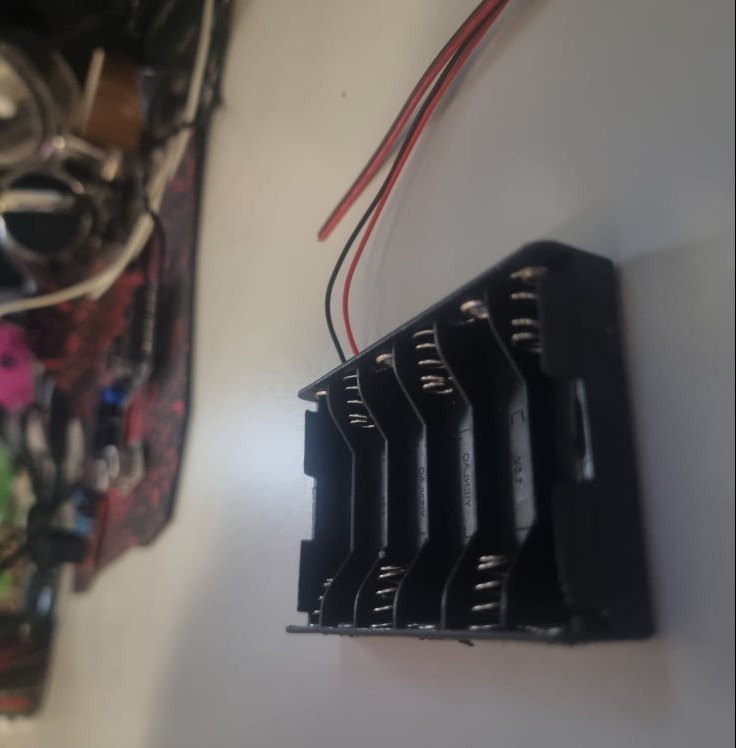BATTERY BOX: (289, 240, 657, 644)
